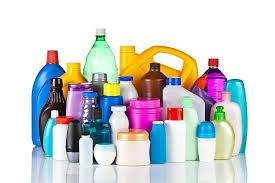Container for household chemicals: (5, 10, 260, 174)
